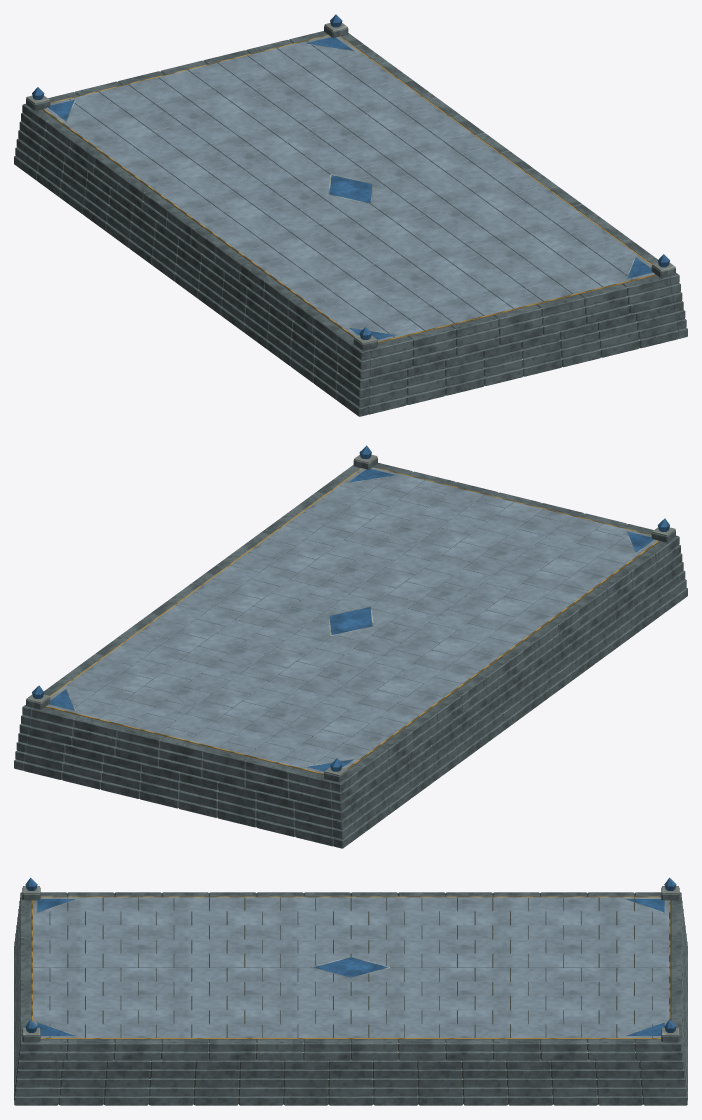
Rendered from arena_07.fbx.
3 views of the same model, one above another, from view 1: azimuth 30°, elevation 25°; view 2: azimuth 150°, elevation 25°; view 3: azimuth 270°, elevation 25° (orthographic). The views are drawn at different scales.
Visible parts, largest first — view 1: arena_07; view 2: arena_07; view 3: arena_07.
Part boxes in pixels (x1,y1,x2,y2): arena_07: (14, 14, 687, 416); arena_07: (14, 445, 687, 848); arena_07: (14, 877, 687, 1105).
Size of the model in its own units: 55000 by 100000 by 12900.
